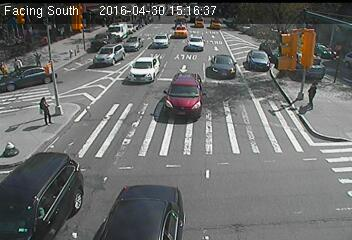neg: (289, 131, 317, 168), (149, 139, 175, 173), (172, 83, 197, 117), (276, 30, 301, 63), (110, 95, 135, 127), (71, 80, 95, 112), (297, 182, 321, 213), (75, 151, 98, 182), (127, 188, 150, 219), (126, 39, 148, 68), (52, 175, 73, 203), (258, 156, 279, 183), (207, 137, 227, 164), (245, 63, 264, 88), (252, 105, 271, 130), (200, 62, 218, 86), (231, 27, 249, 50), (170, 25, 187, 49), (188, 196, 204, 217), (28, 49, 43, 70), (83, 48, 98, 68)
pos: (32, 93, 57, 126), (301, 80, 324, 111)
